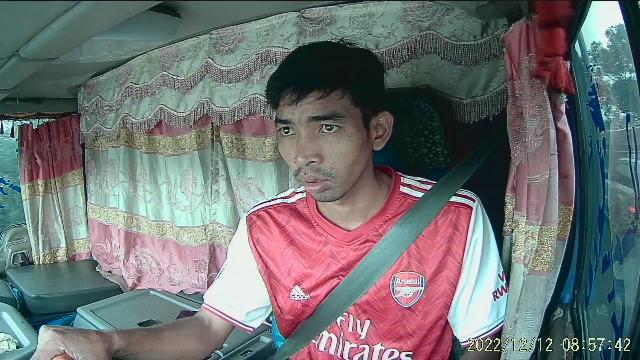SafeDriving: (311, 116, 346, 138), (272, 118, 302, 140)
Seatbelt: (284, 170, 478, 360)
